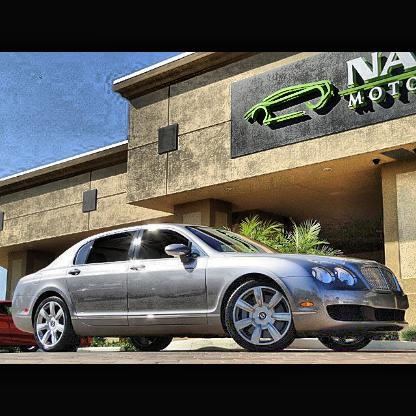Bentley Continental Flying Spur Sedan 2007: (13, 223, 412, 354)
